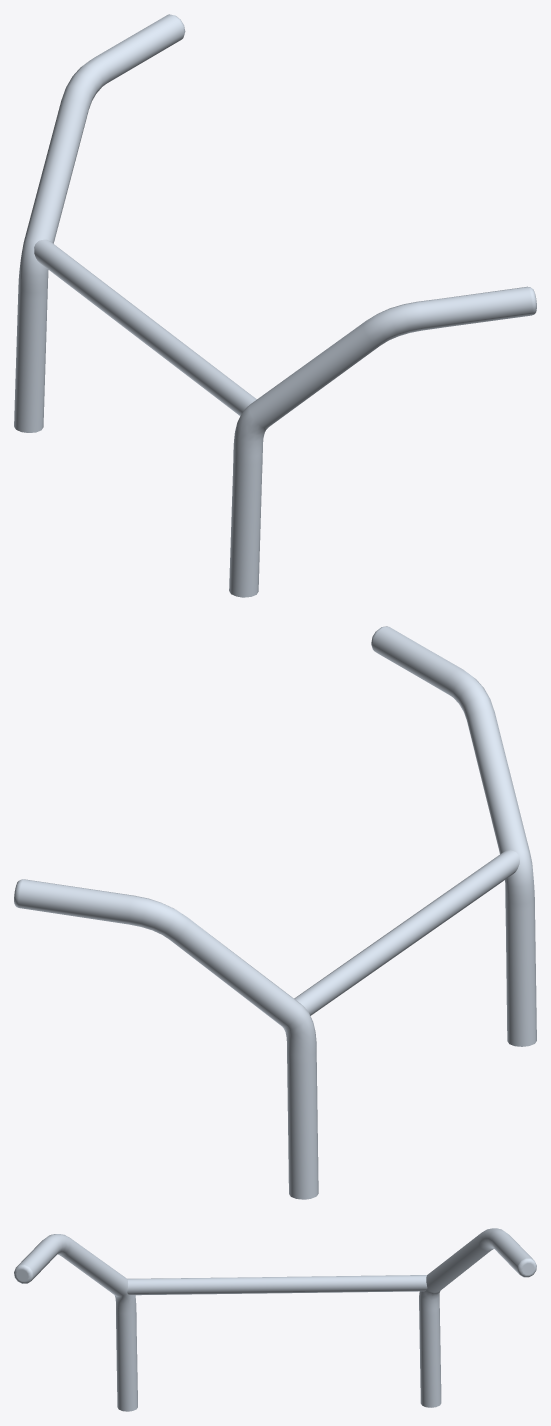
The model's file is RB-016_viewer.glb.
3 views of the same model, one above another, from view 1: azimuth 30°, elevation 25°; view 2: azimuth 150°, elevation 25°; view 3: azimuth 270°, elevation 25° (orthographic). The views are drawn at different scales.
Visible parts, largest first — view 1: basebody_imported1; view 2: basebody_imported1; view 3: basebody_imported1.
Boxes of the visible parts, box(x1,y1,x2,y2) form: basebody_imported1: box(14, 14, 536, 597); basebody_imported1: box(14, 626, 536, 1199); basebody_imported1: box(14, 1228, 536, 1411).
Bounding box in the file's own units: 0.0114 × 0.0148 × 0.0315.
